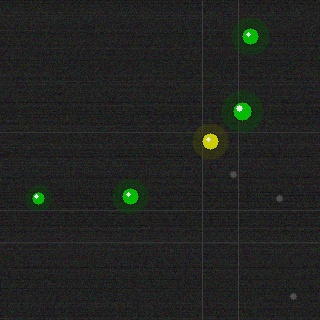green_normal: (231, 100, 253, 122), (120, 186, 140, 206), (240, 26, 260, 46), (30, 190, 46, 206)
yellow_warning: (200, 131, 220, 151)
